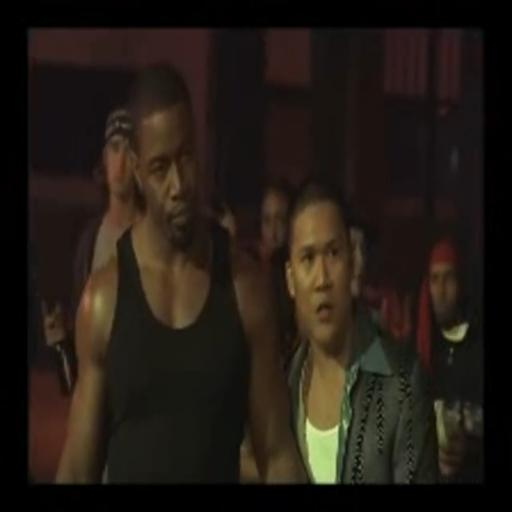nao-violencia: (49, 54, 447, 484)
